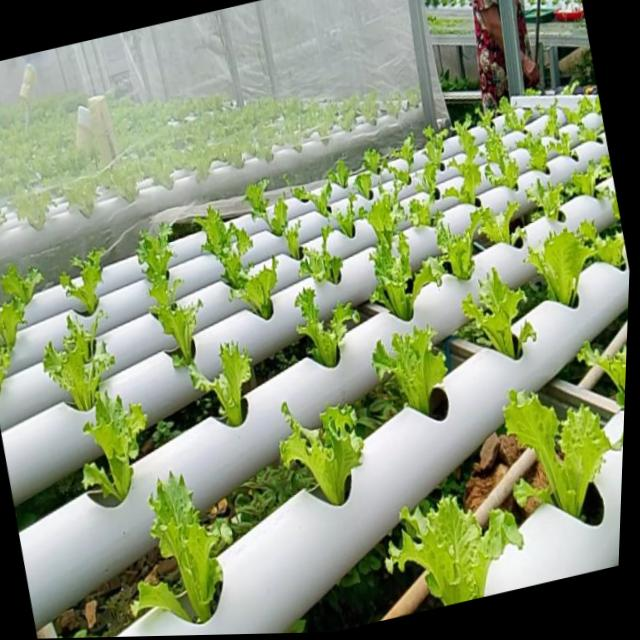Baby: (389, 493, 526, 603), (506, 386, 624, 512), (151, 469, 233, 620), (139, 222, 203, 371), (282, 400, 366, 504), (86, 389, 149, 500), (375, 326, 450, 419), (45, 313, 116, 408), (464, 266, 533, 358), (526, 222, 596, 304), (190, 340, 254, 425), (296, 286, 361, 366), (432, 206, 493, 284), (196, 205, 254, 287), (481, 109, 521, 188), (301, 224, 352, 283), (232, 256, 280, 318), (360, 186, 408, 248), (62, 247, 106, 313), (0, 292, 28, 367), (520, 130, 549, 170), (501, 96, 534, 130), (389, 157, 413, 190), (410, 197, 434, 225), (546, 100, 562, 137)
